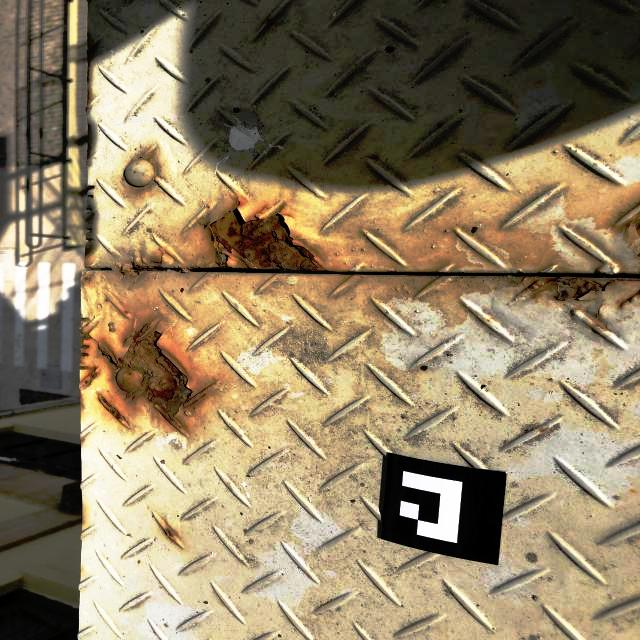Corrosion: (94, 318, 218, 437), (209, 209, 324, 271), (514, 276, 615, 303), (97, 394, 130, 429), (116, 255, 154, 284), (80, 316, 99, 360), (159, 250, 180, 270), (78, 368, 96, 390), (162, 521, 178, 539)
